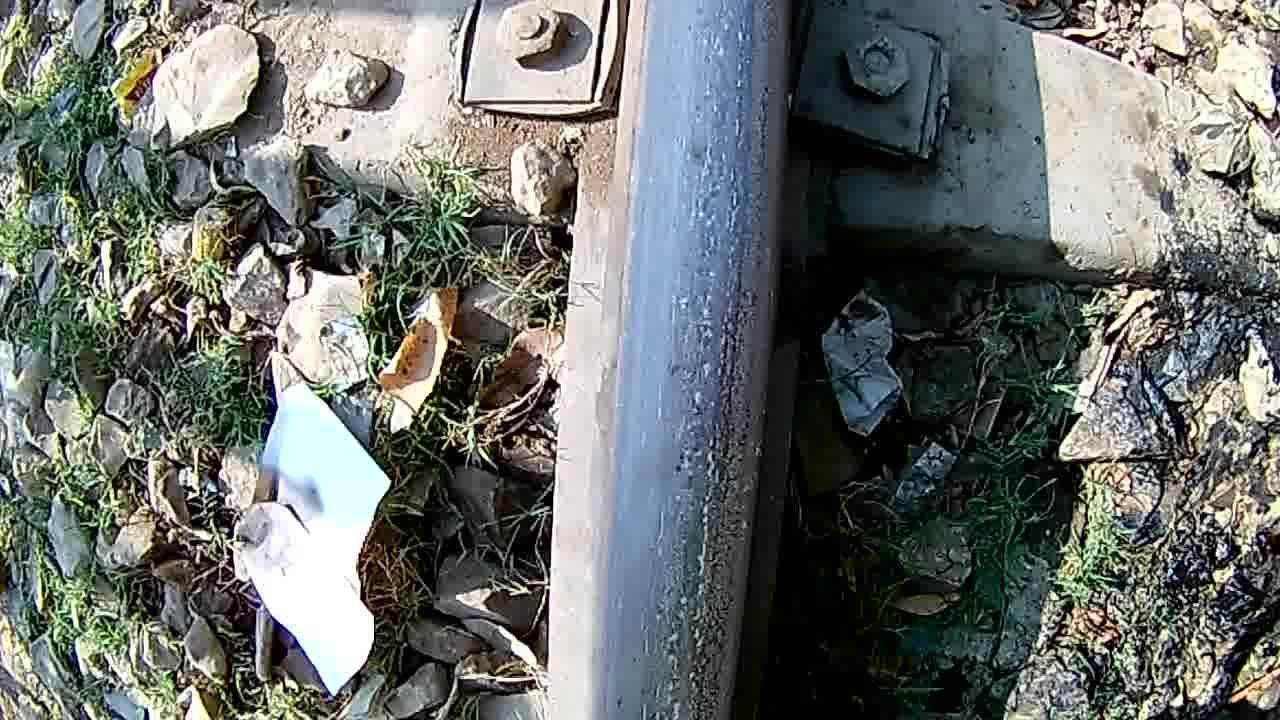crack: (624, 3, 753, 720)
